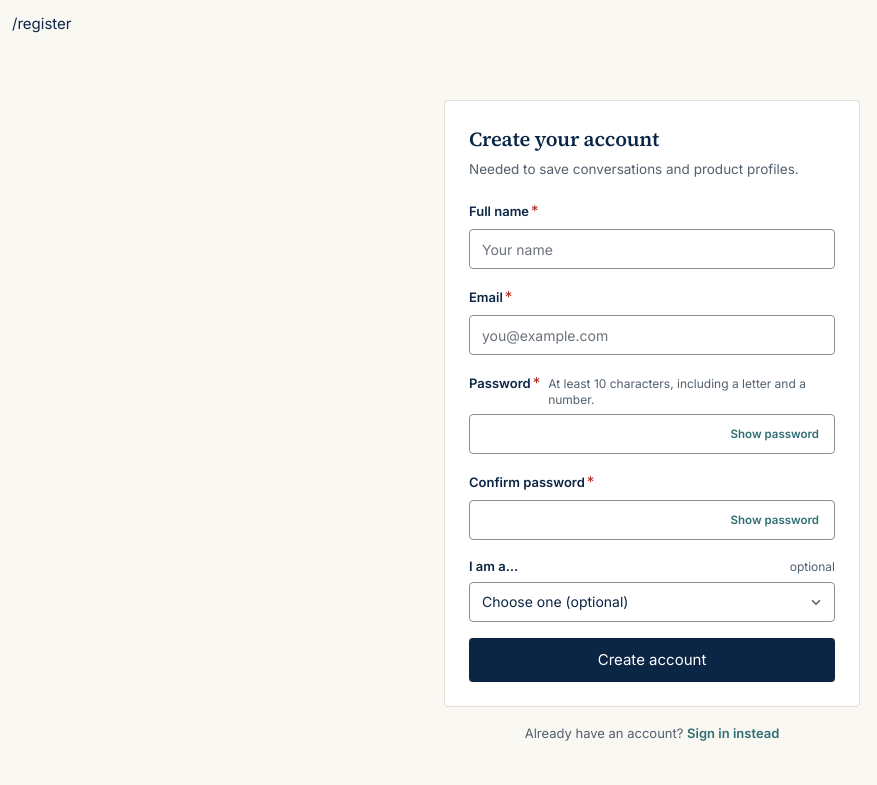
Test: Register › shows a duplicate-email conflict on the email field
This screenshot has width=877, height=785.
Type "Asha Rao" into the field labelled "Full name" at (652, 249), box [469,229,835,269]
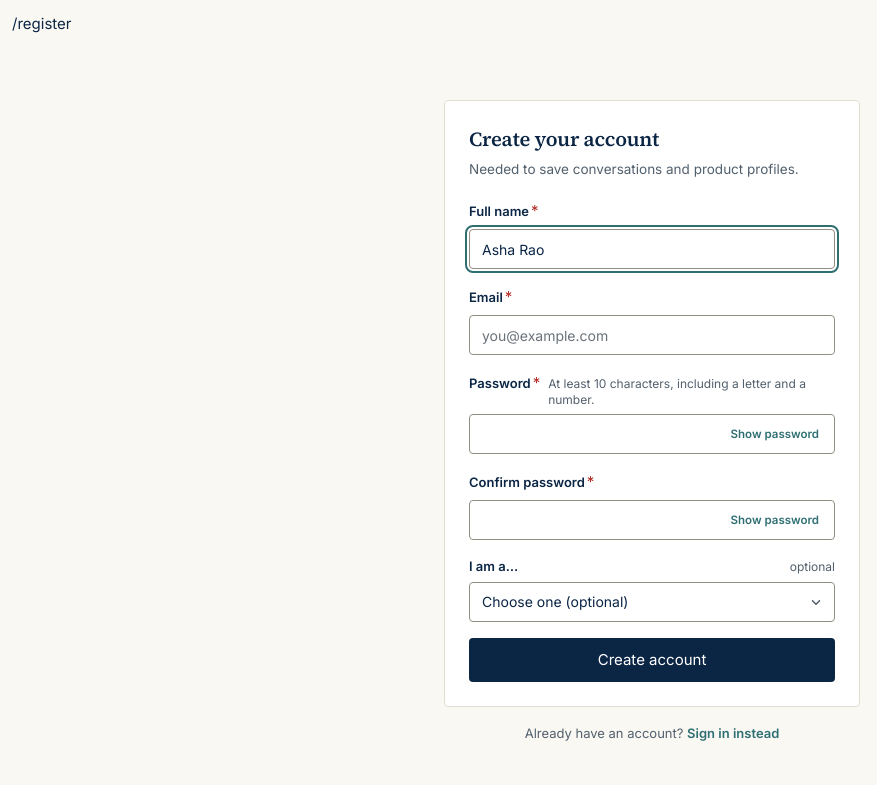
Type "asha@example.org" into the field labelled "Email" at (652, 335), box [469,315,835,355]
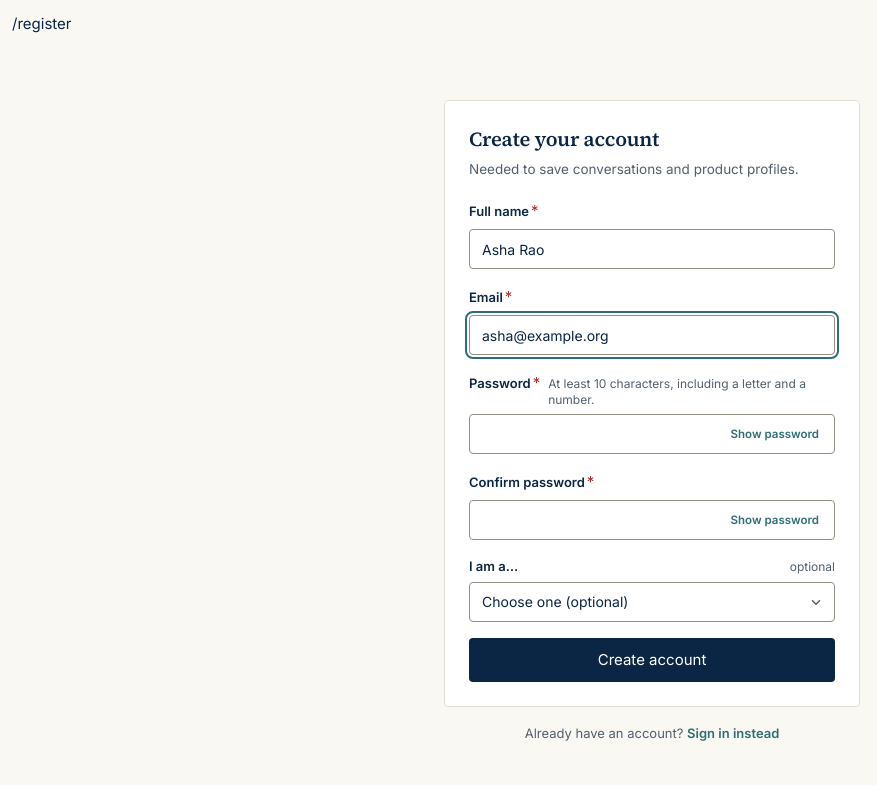
Type "Correct-Horse-9" into the password field labelled "Password" at (652, 434), box [469,414,835,454]
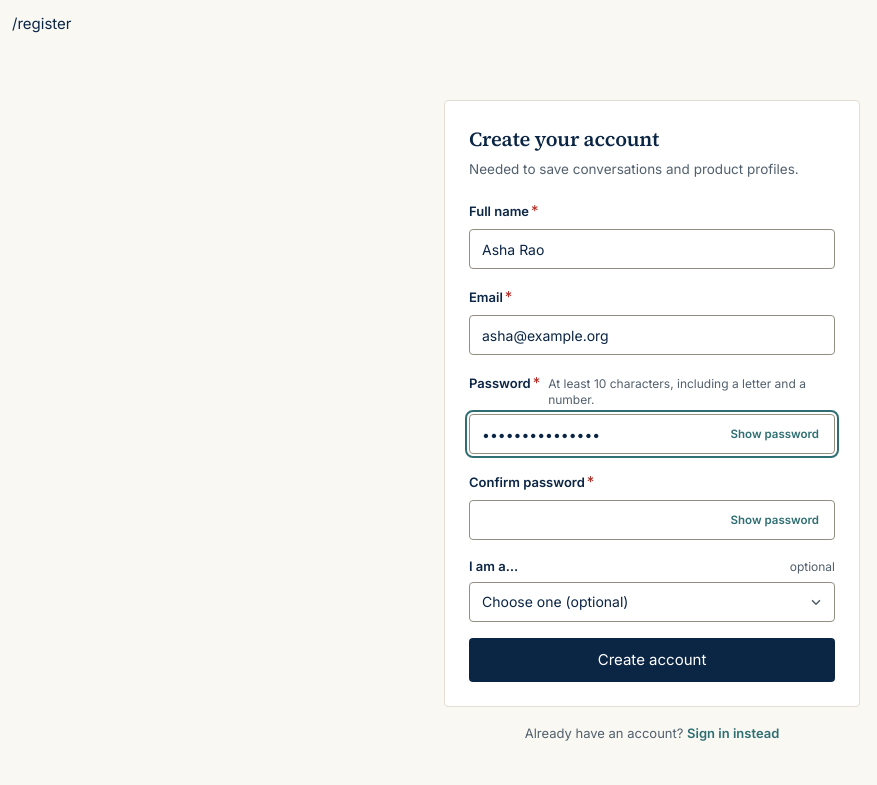
Type "Correct-Horse-9" into the password field labelled "Confirm password" at (652, 520), box [469,500,835,540]
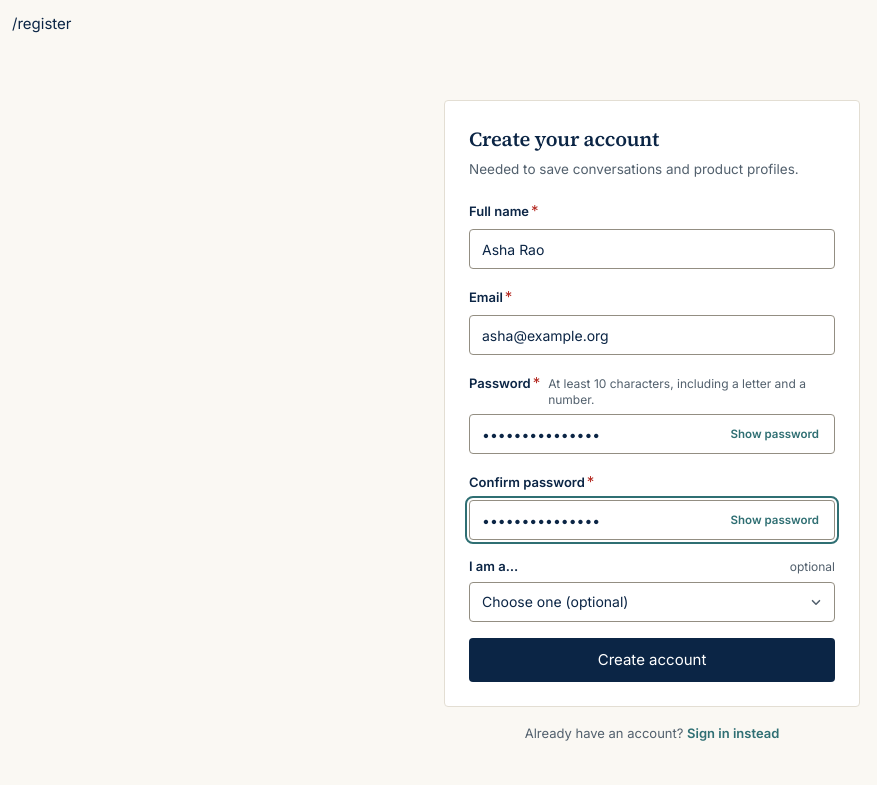
Click the button "Create account" at (652, 660), box [469,638,835,682]
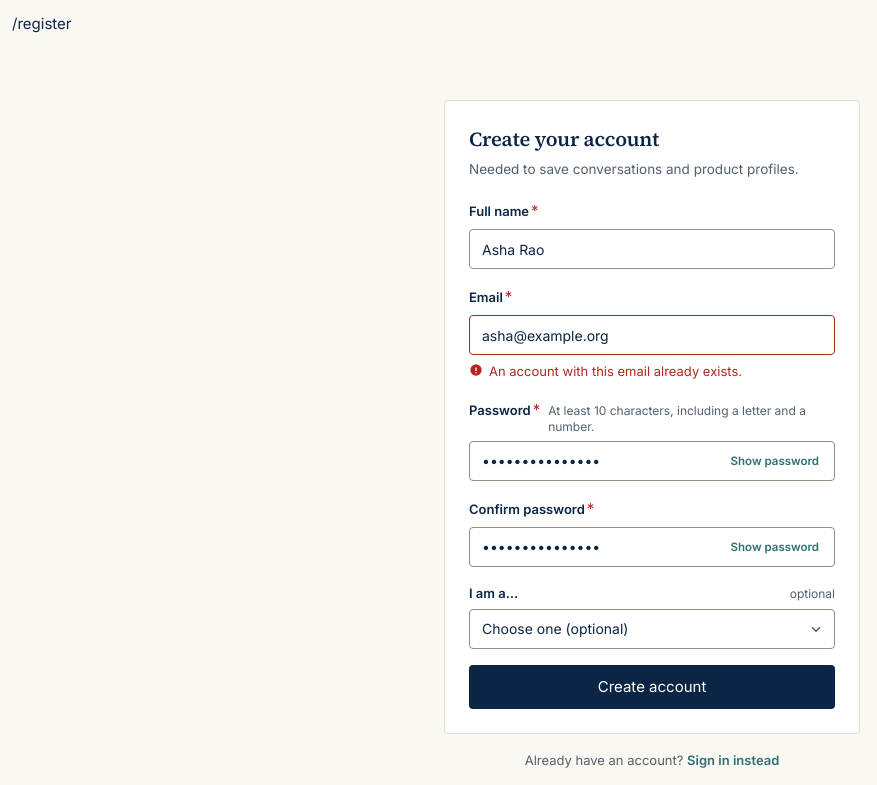
Expected: the text "An account with this email already exists." is shown, [469,363,742,379]
